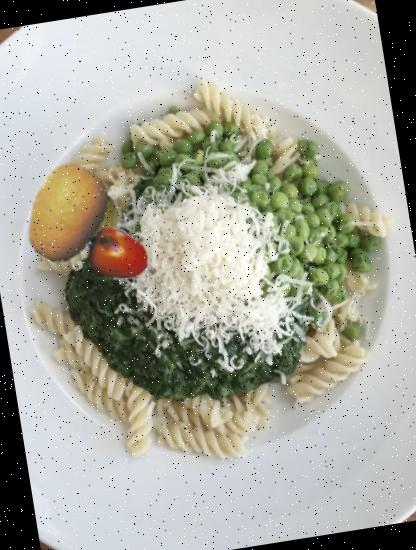Guava: (66, 190, 124, 248)
Kaki: (82, 220, 154, 292)
Kumquats: (11, 156, 124, 270)
